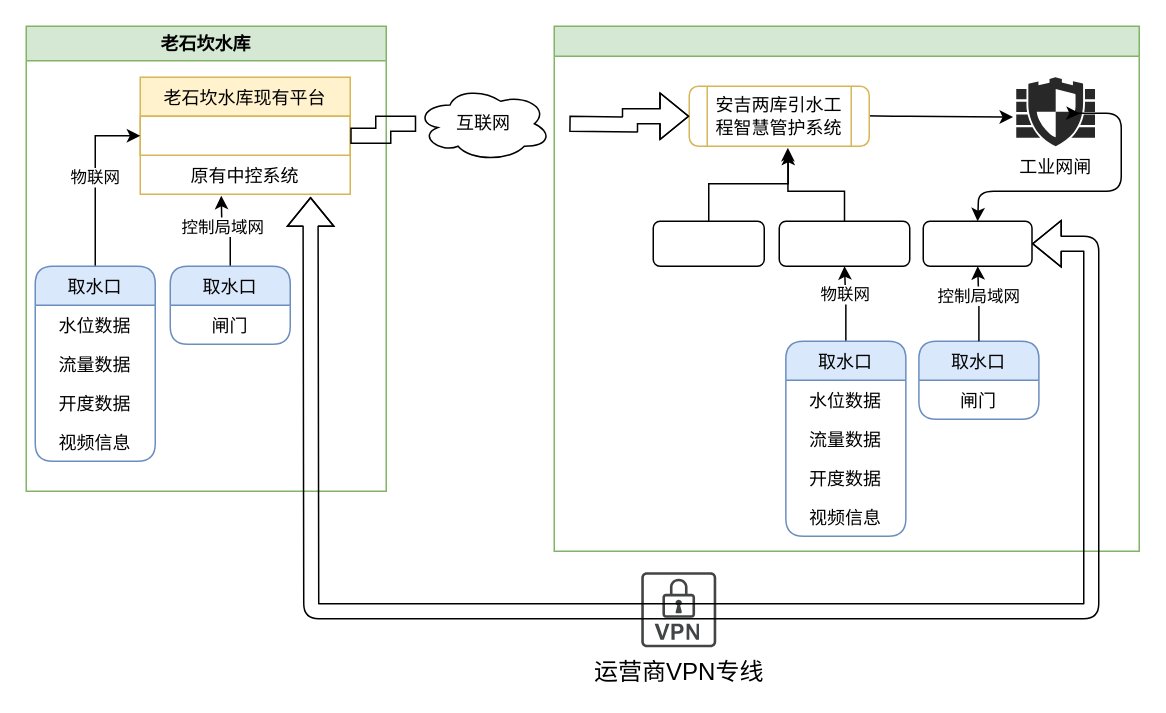
Some shapes in this 1166 by 713 pixel diagram are drawn without their labels. The shapes that lost their labels are listed below. From the top down, each one's box as (x1, y1, x2, y2) in pixels, then its label:
(139, 115, 350, 155): 原有数据采集系统
(652, 220, 764, 266): 水厂数据
(778, 220, 910, 266): 数据集成系统
(922, 220, 1032, 266): 中控系统
(553, 25, 1139, 551): 赋石水库
